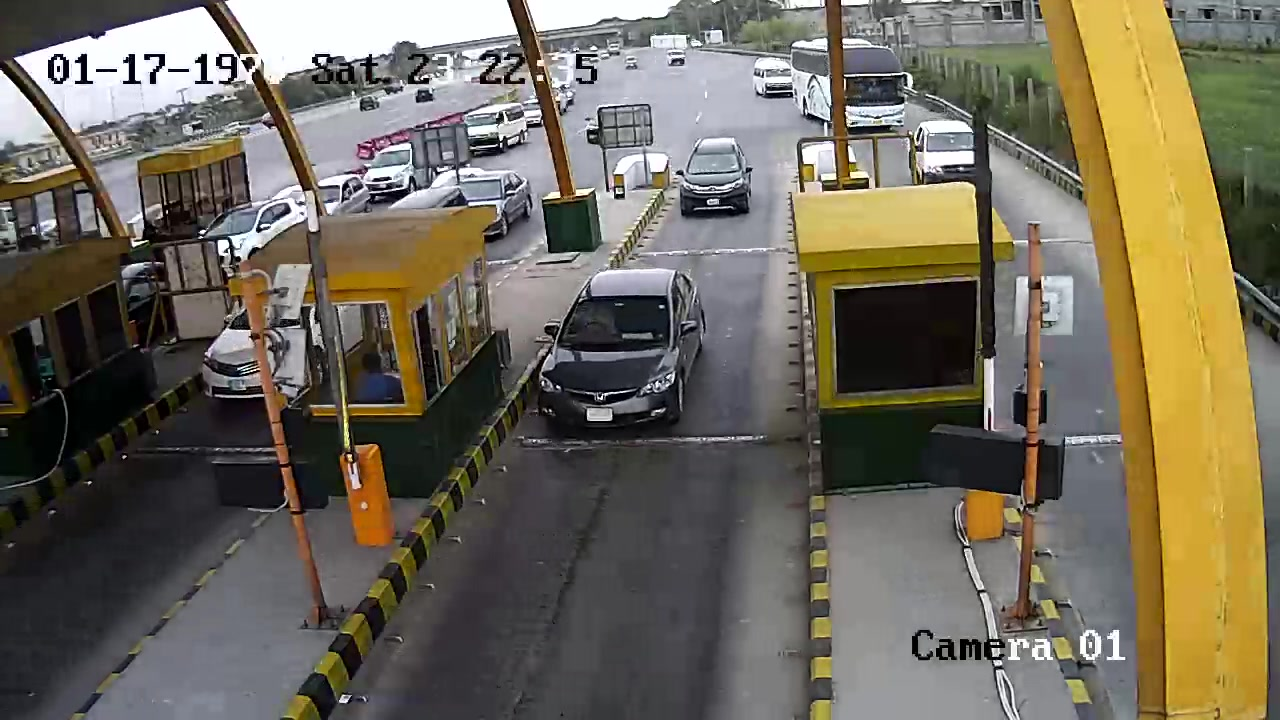F1: (534, 261, 718, 431)
